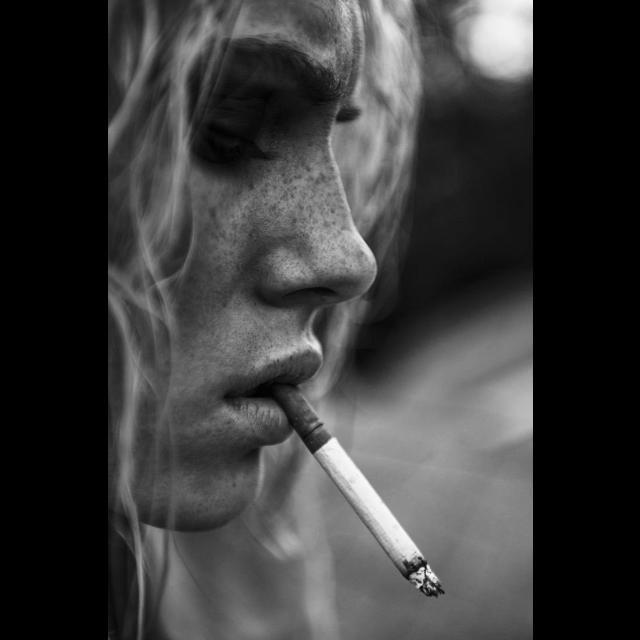rokok: (263, 380, 451, 612)
